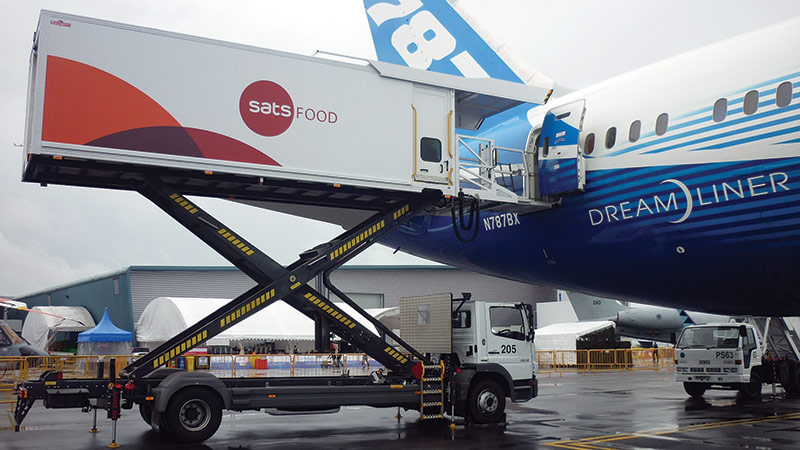Catering truck: (12, 5, 564, 428)
